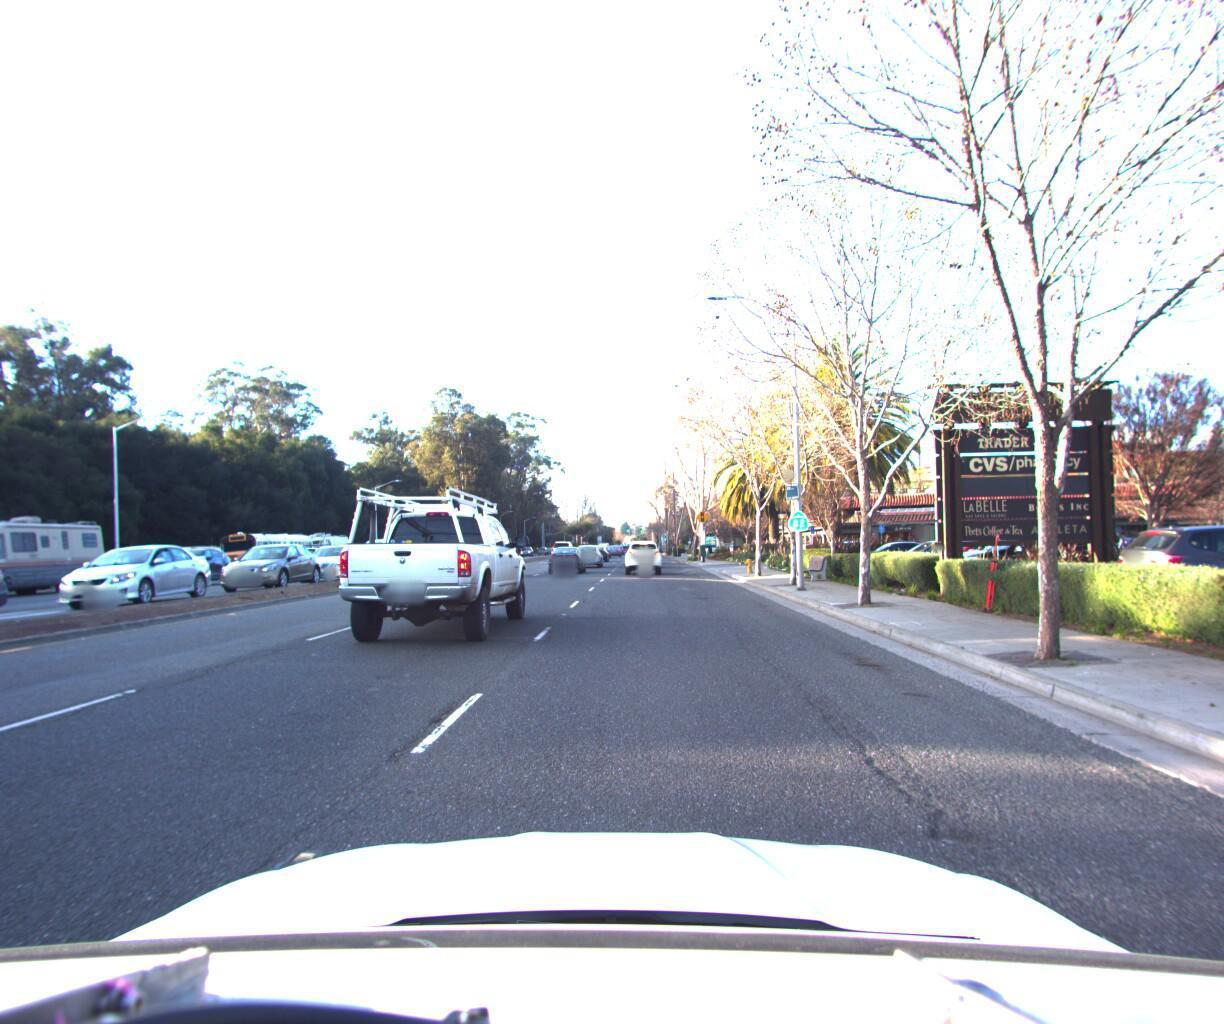bus: (208, 524, 317, 577)
car: (333, 477, 534, 646), (51, 539, 226, 612), (1100, 513, 1224, 609), (212, 536, 333, 591), (144, 541, 254, 591), (0, 541, 32, 662), (294, 537, 380, 581), (623, 532, 664, 570), (548, 537, 587, 568), (572, 536, 604, 563)
other_vehicle: (0, 505, 116, 604), (147, 540, 231, 582), (294, 524, 353, 568)
